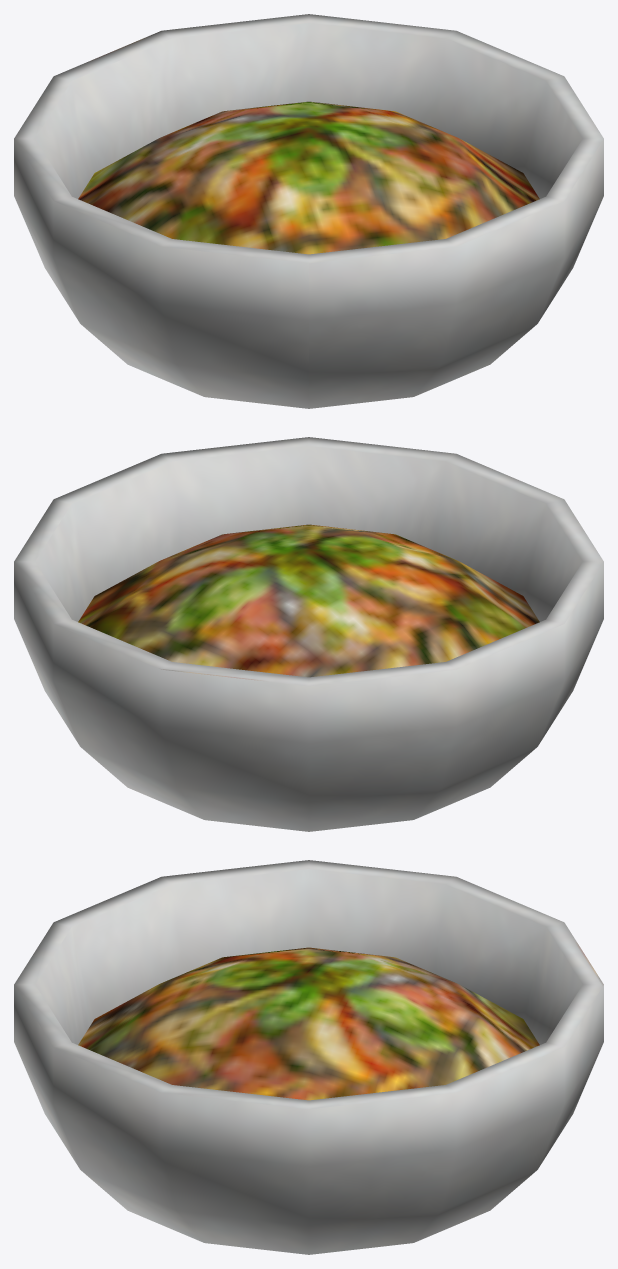
The model's file is bowl_03.glb.
3 renders of one model, top to bottom at view 1: azimuth 30°, elevation 25°; view 2: azimuth 150°, elevation 25°; view 3: azimuth 270°, elevation 25°, orthographic.
Visible parts, largest first — view 1: bowl.03; view 2: bowl.03; view 3: bowl.03.
Boxes of the visible parts, x1,y1,x2,y2 form: bowl.03: [14, 14, 603, 408]; bowl.03: [14, 437, 603, 831]; bowl.03: [14, 860, 603, 1254].
Bounding box in the file's own units: 0.2772 × 0.1138 × 0.2772.
Materials: 1 (1 with a texture image).
